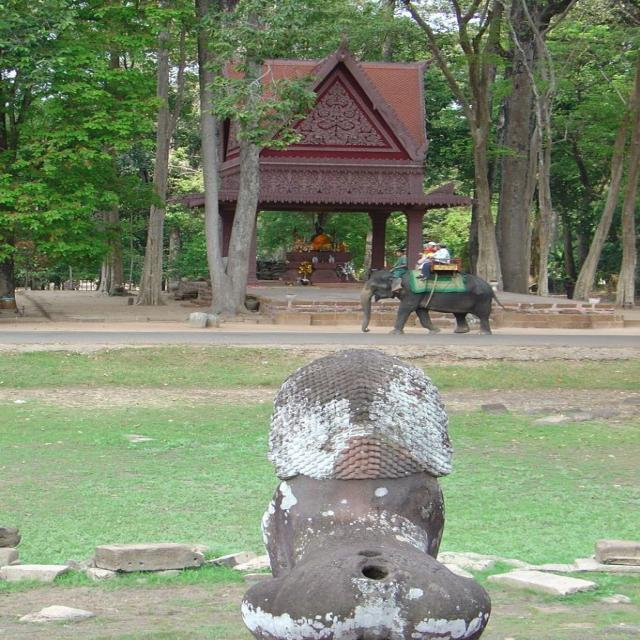elephant: (362, 265, 490, 337)
